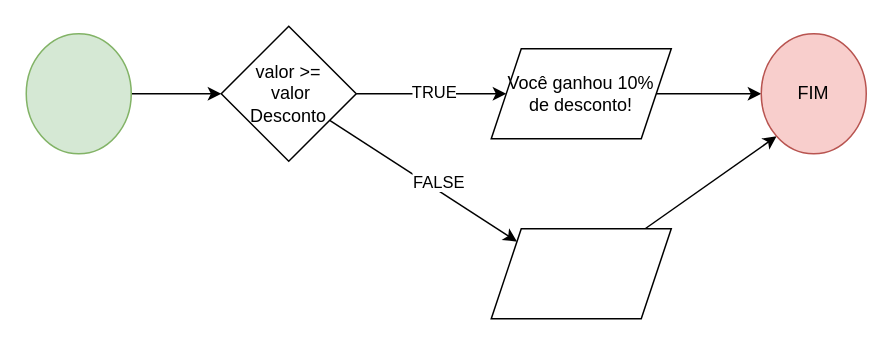
Image size: 893x345. Some labels were removed from this diagram. The centre of each missing label's shape, as x and y in pixels:
INICIO: (78,93)
Para ter desconto. faça compras acima de 100R$: (580,273)
